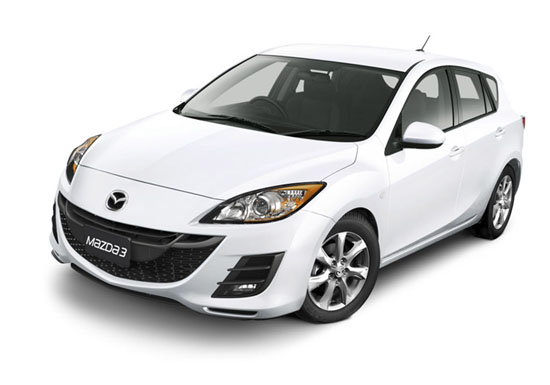sedan: (48, 41, 531, 325)
